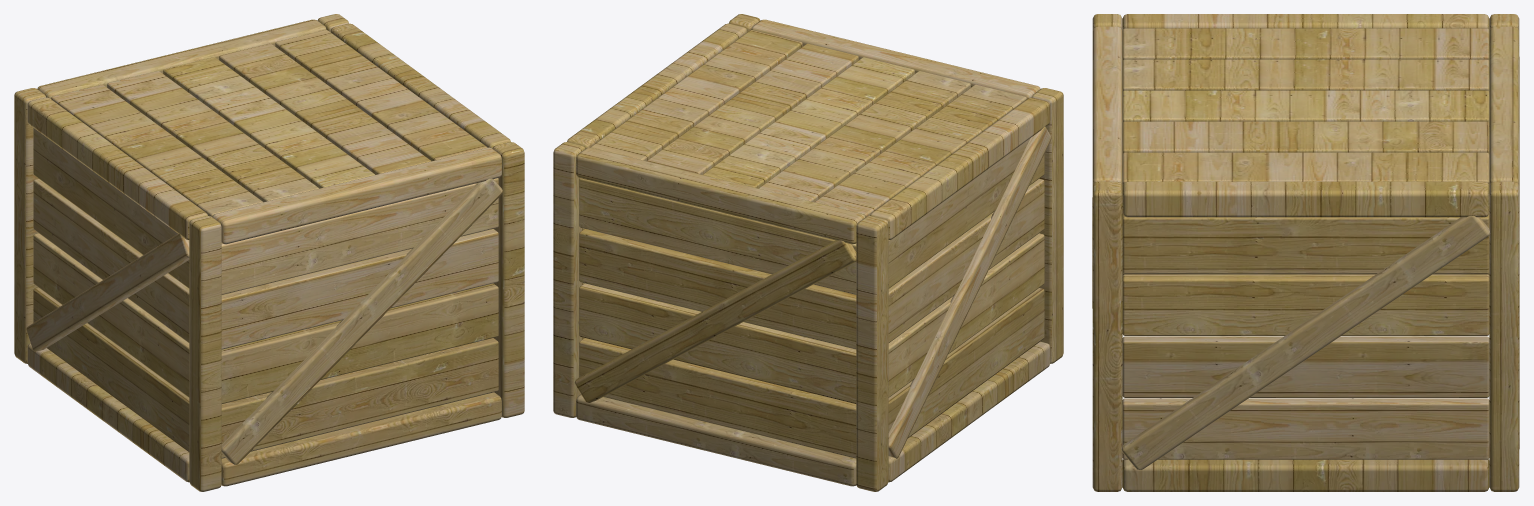
File: prop_crate.glb
3 views of the same model, side by side, from view 1: azimuth 30°, elevation 25°; view 2: azimuth 150°, elevation 25°; view 3: azimuth 270°, elevation 25° (orthographic). The views are drawn at different scales.
Parts seen in each view (by area): view 1: prop; view 2: prop; view 3: prop.
Boxes of the visible parts, x1,y1,x2,y2 form: prop: [14, 14, 524, 491]; prop: [553, 14, 1063, 491]; prop: [1092, 14, 1519, 491].
Size of the model in its own units: 1 by 0.78 by 1.
1 material, 1 textured.
